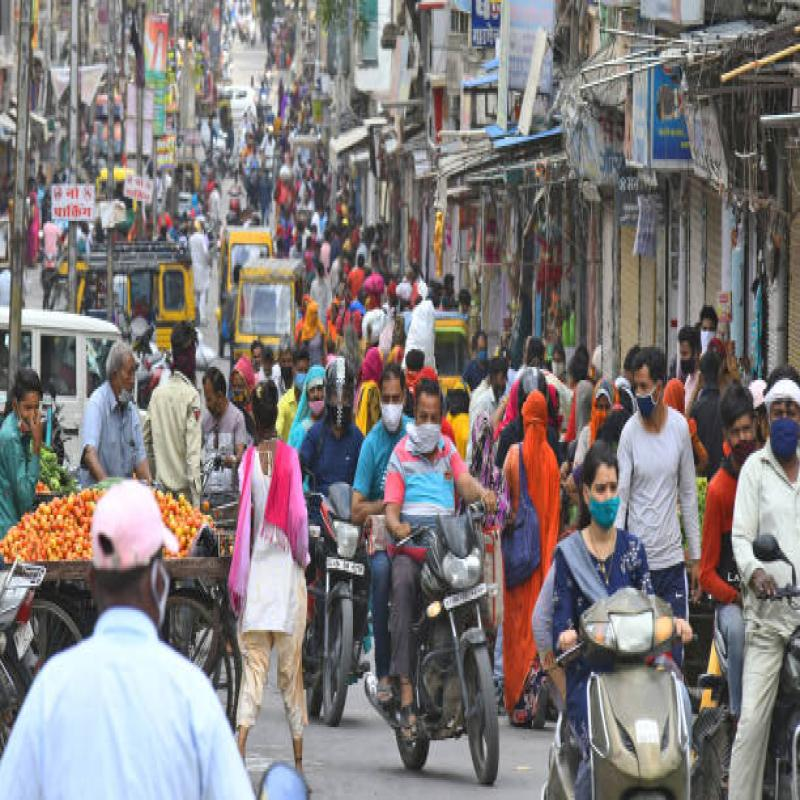bike: (388, 513, 551, 743), (580, 599, 693, 774), (316, 470, 372, 668)
